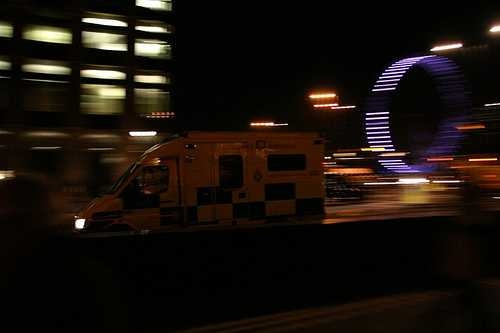Ambulance: (65, 122, 347, 250)
